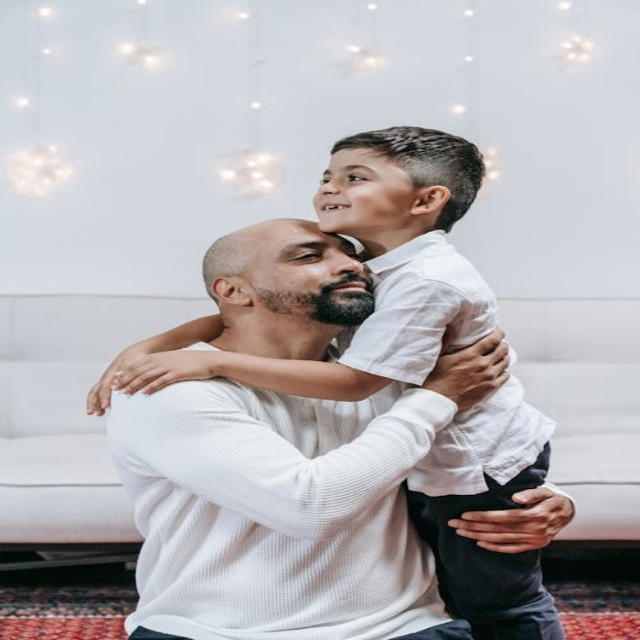Sin_gafas: (259, 242, 357, 271), (317, 164, 385, 188)
Sin_guantes: (442, 483, 588, 556), (420, 323, 517, 413), (111, 344, 230, 396), (81, 344, 138, 418)
Sin_mascara: (314, 280, 375, 312), (311, 198, 357, 224)
